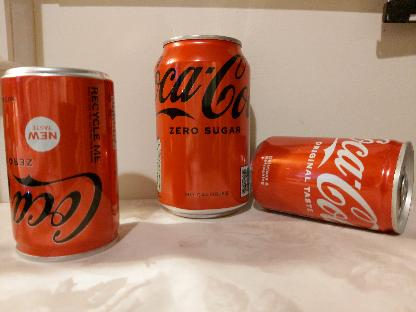Can: (0, 66, 120, 262), (152, 34, 250, 220), (252, 135, 416, 235)
